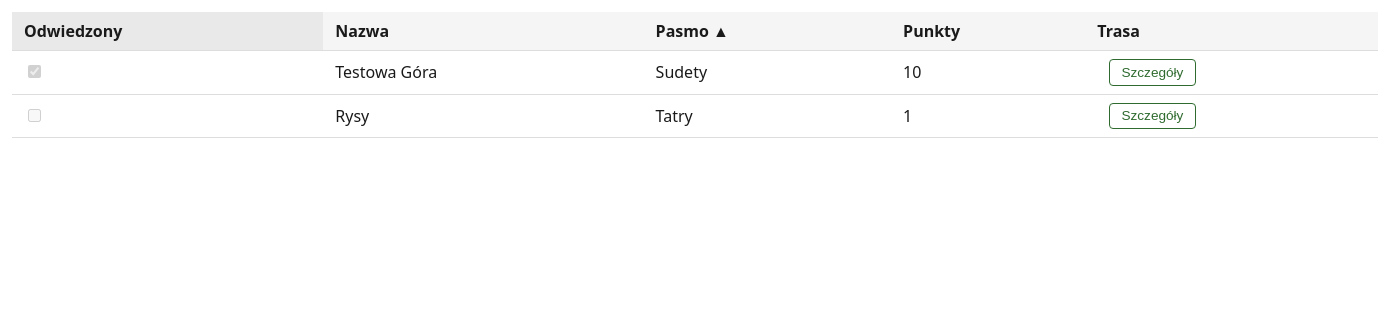
Test: PointsList › rozwija szczegóły trasy z realnymi danymi dla punktu, który je ma
Click the button "Szczegóły" in the row of "Rysy".
click(1152, 116)  # box [1109,103,1196,129]
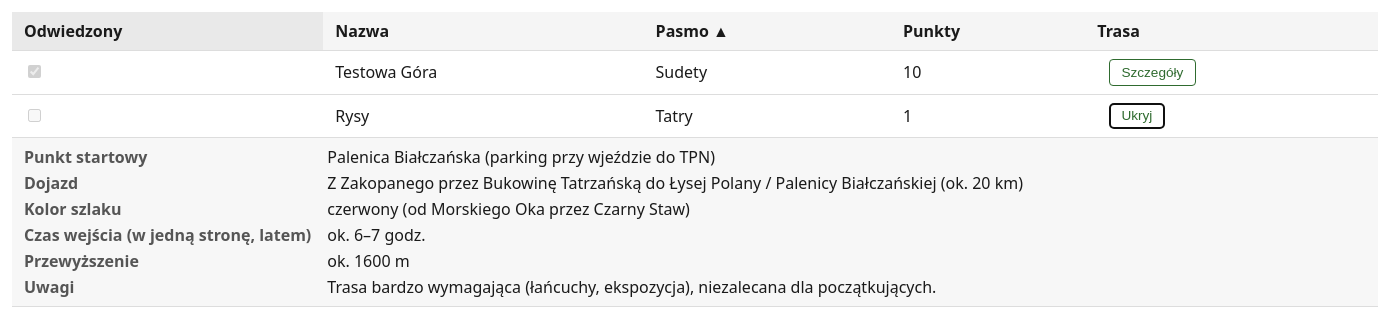
Expected: the text "Punkt startowy" is shown, [24,146,147,168]
Expected: the button "Ukryj" is shown, [1109,103,1164,129]
